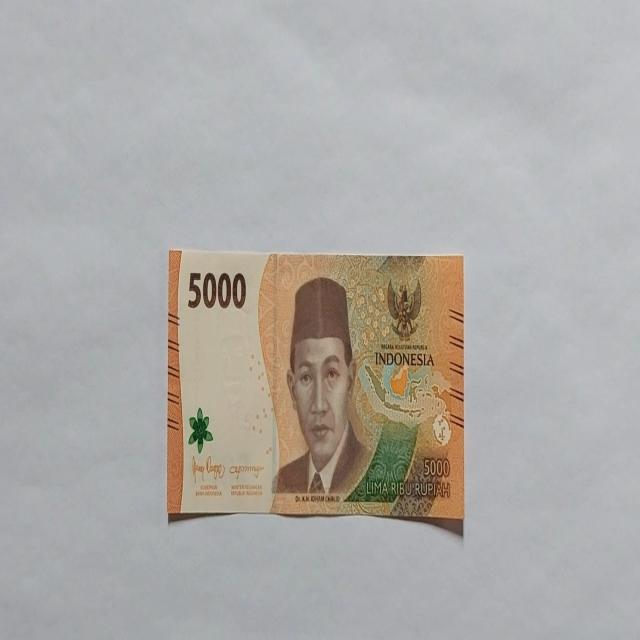lima ribu rupiah: (166, 247, 464, 532), (270, 274, 373, 502)
